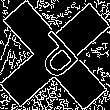P_SE: (24, 24, 86, 86)
